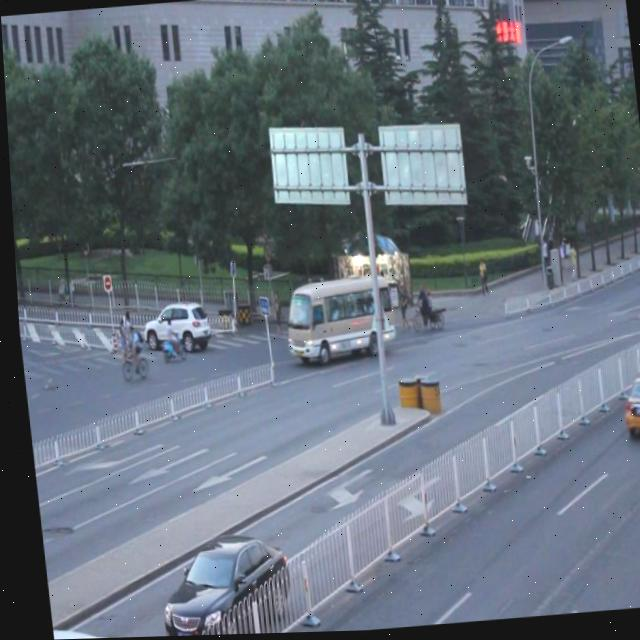car: (149, 530, 287, 637), (136, 300, 208, 359), (613, 374, 640, 439), (45, 621, 127, 640)
truck: (277, 276, 396, 359)
